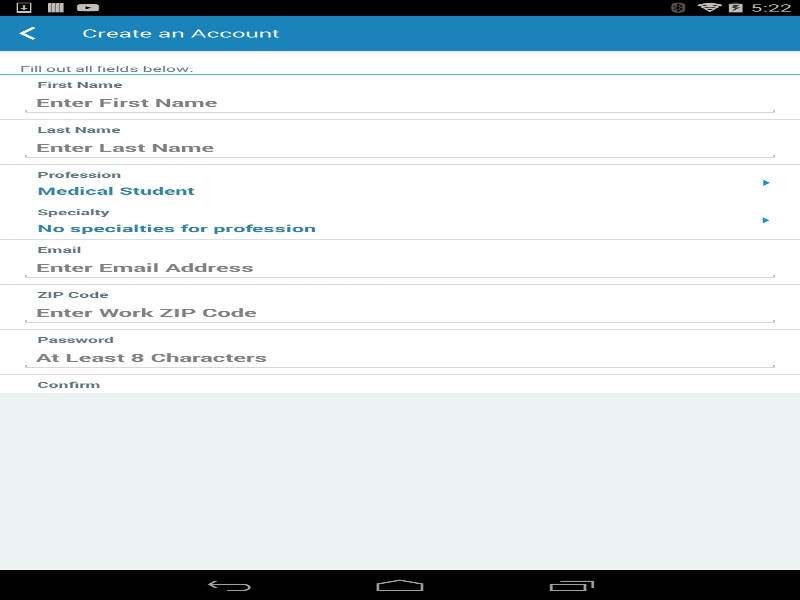Input: (20, 90, 780, 115), (20, 135, 780, 160), (20, 255, 780, 280), (20, 300, 780, 325), (20, 345, 780, 370), (20, 390, 780, 415)
